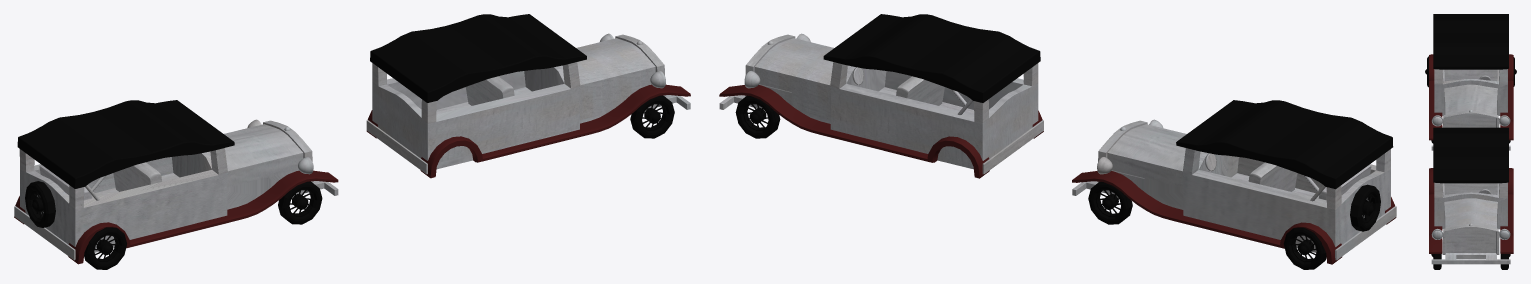
Rendered from WoodenClassicCar.0028.fbx.
3 views of the same model, side by side, from view 1: azimuth 30°, elevation 25°; view 2: azimuth 150°, elevation 25°; view 3: azimuth 270°, elevation 25° (orthographic). The views are drawn at different scales.
Visible parts, largest first — view 1: pCube8, pCube3, pPipe1, polySurface37, pCube6, pCube4; view 2: pCube8, pCube3, pPipe1, polySurface37, pCube6, pCube4; view 3: pCube8, pCube3, pPipe1, pCube6, pSphere2, polySurface37.
Boxes of the visible parts, left/top/right/bottom form: pCube8: left=14, top=100, right=338, bottom=269; pCube3: left=370, top=14, right=690, bottom=169; pPipe1: left=366, top=84, right=690, bottom=178; polySurface37: left=630, top=95, right=674, bottom=138; pCube6: left=465, top=76, right=514, bottom=105; pCube4: left=366, top=120, right=427, bottom=174; pCube8: left=1072, top=100, right=1396, bottom=269; pCube3: left=719, top=14, right=1040, bottom=169; pPipe1: left=719, top=85, right=1043, bottom=178; polySurface37: left=735, top=95, right=780, bottom=138; pCube6: left=896, top=76, right=944, bottom=105; pCube4: left=982, top=120, right=1043, bottom=174; pCube8: left=1425, top=14, right=1516, bottom=150; pCube3: left=1431, top=127, right=1510, bottom=264; pPipe1: left=1429, top=168, right=1513, bottom=253; pCube6: left=1444, top=183, right=1497, bottom=194; pSphere2: left=1431, top=228, right=1510, bottom=239; polySurface37: left=1431, top=254, right=1510, bottom=269.
Bounding box in the file's own units: 79.59 × 13.59 × 15.29.
